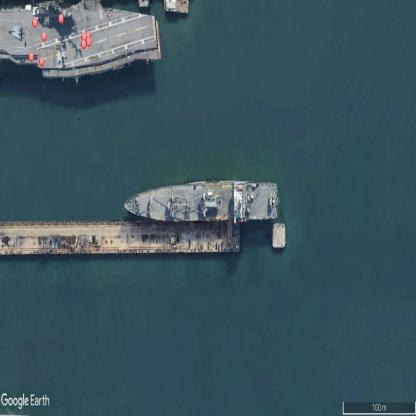ship: (122, 179, 278, 221)
